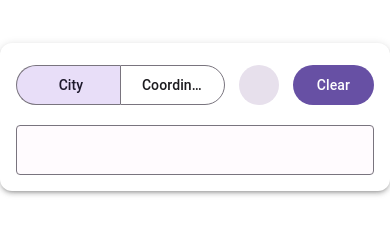
Scenario: SearchBar + useCitySearch integration › empties the input on Clear
Type "Par" into the field named "Search city" at (195, 151), box [16,127,374,175]
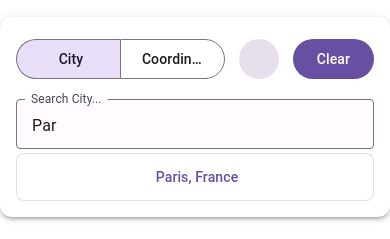
Click the button "Paris, France" at (195, 177), box [17,158,373,196]
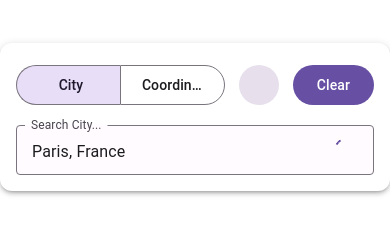
Now the field named "Search city" holds "Paris, France", box [16,127,318,175]
Click the button "Clear" at (333, 85), box [293,65,374,105]
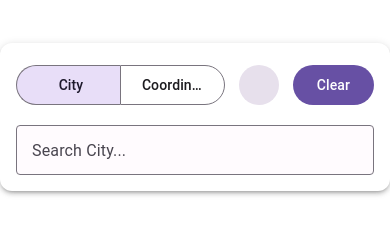
Now the field named "Search city" is empty, box [16,127,374,175]
